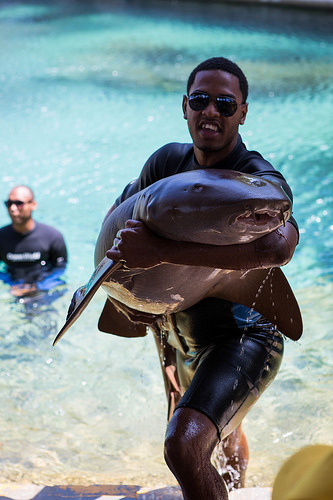shark: (49, 162, 311, 358)
